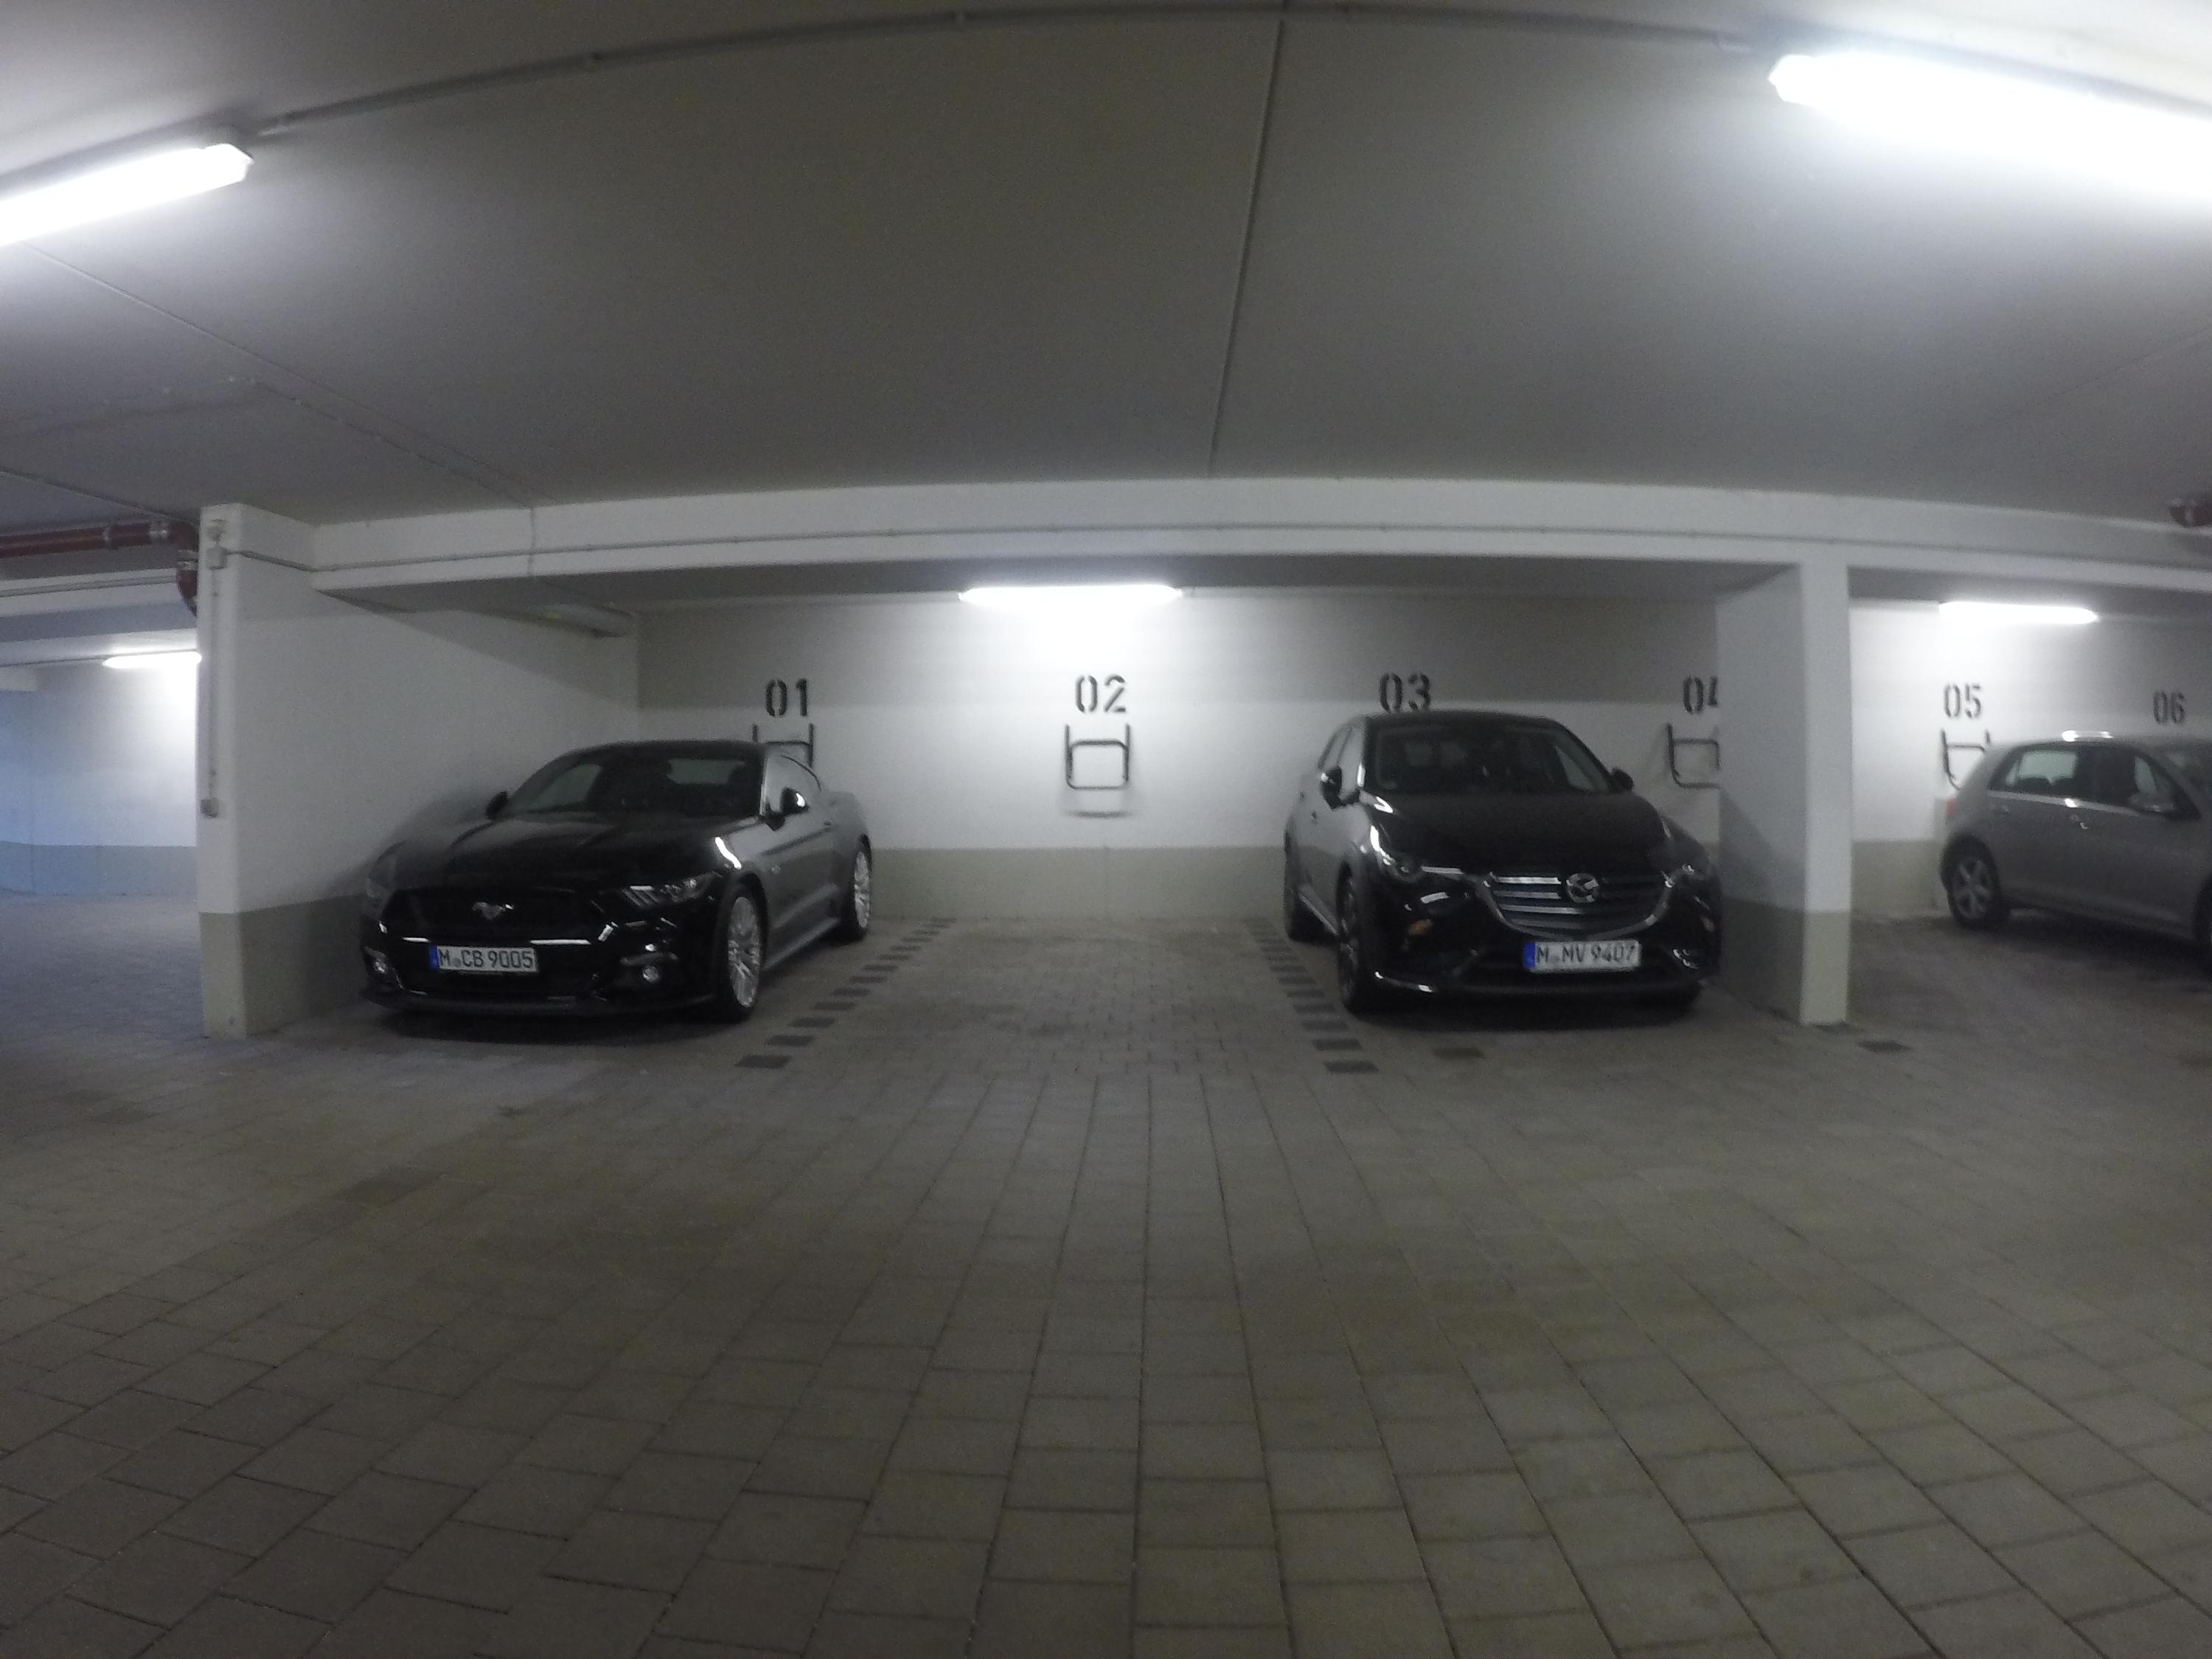0: (1613, 942, 1624, 962), (498, 950, 510, 968), (509, 950, 521, 968)
4: (1601, 943, 1612, 962)
5: (521, 950, 533, 969)
7: (1624, 942, 1635, 961)
9: (1590, 942, 1601, 962), (487, 950, 498, 968)
B: (472, 950, 484, 967)
C: (460, 948, 472, 967)
M: (437, 947, 451, 967), (1536, 945, 1549, 964), (1562, 945, 1573, 962)
V: (1575, 943, 1587, 962)
